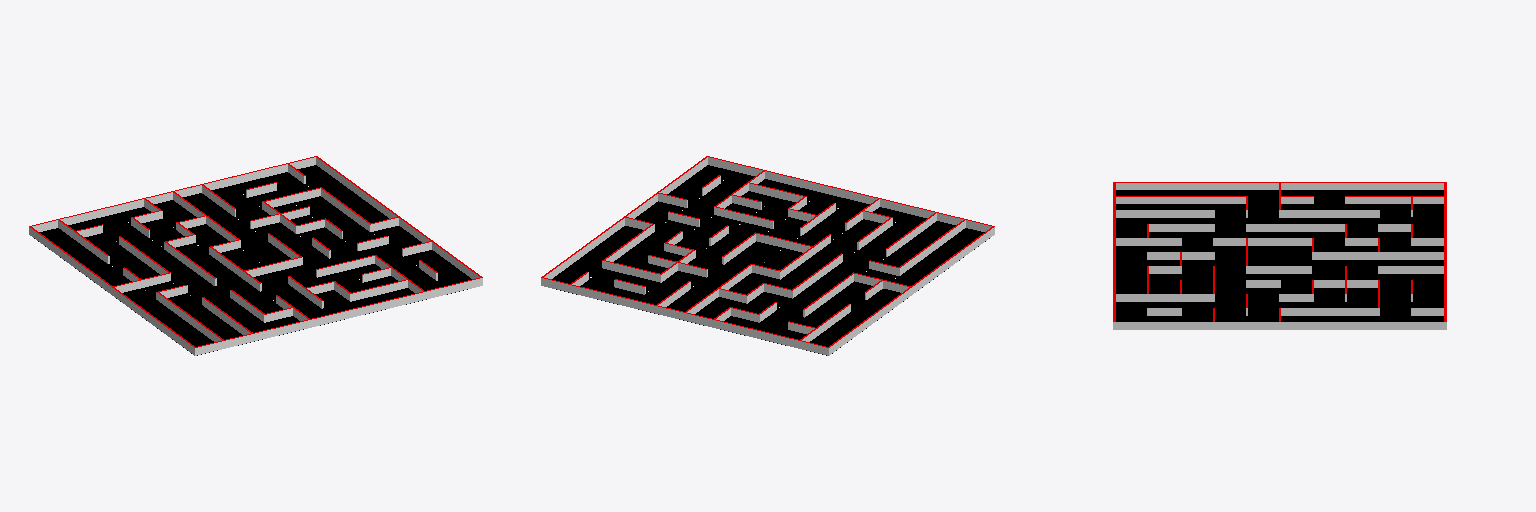
The model's file is minus_visual.obj.
The picture shows the model from 3 angles: view 1: azimuth 30°, elevation 25°; view 2: azimuth 150°, elevation 25°; view 3: azimuth 270°, elevation 25°; orthographic projection.
Visible parts, largest first — view 1: |Assem1_VISUALIZE|Root|color-2, |Assem1_VISUALIZE|Root|white, |Assem1_VISUALIZE|Root|color; view 2: |Assem1_VISUALIZE|Root|color-2, |Assem1_VISUALIZE|Root|white, |Assem1_VISUALIZE|Root|color; view 3: |Assem1_VISUALIZE|Root|color-2, |Assem1_VISUALIZE|Root|white, |Assem1_VISUALIZE|Root|color.
Part boxes in pixels (x1,y1,x2,y2): |Assem1_VISUALIZE|Root|color-2: (34, 165, 471, 355); |Assem1_VISUALIZE|Root|white: (29, 157, 482, 355); |Assem1_VISUALIZE|Root|color: (29, 156, 482, 347); |Assem1_VISUALIZE|Root|color-2: (552, 165, 989, 355); |Assem1_VISUALIZE|Root|white: (541, 157, 994, 355); |Assem1_VISUALIZE|Root|color: (541, 156, 994, 347); |Assem1_VISUALIZE|Root|color-2: (1116, 190, 1443, 321); |Assem1_VISUALIZE|Root|white: (1113, 183, 1446, 329); |Assem1_VISUALIZE|Root|color: (1113, 182, 1446, 321).
Bounding box in the file's own units: 1.93 × 0.051 × 1.93.